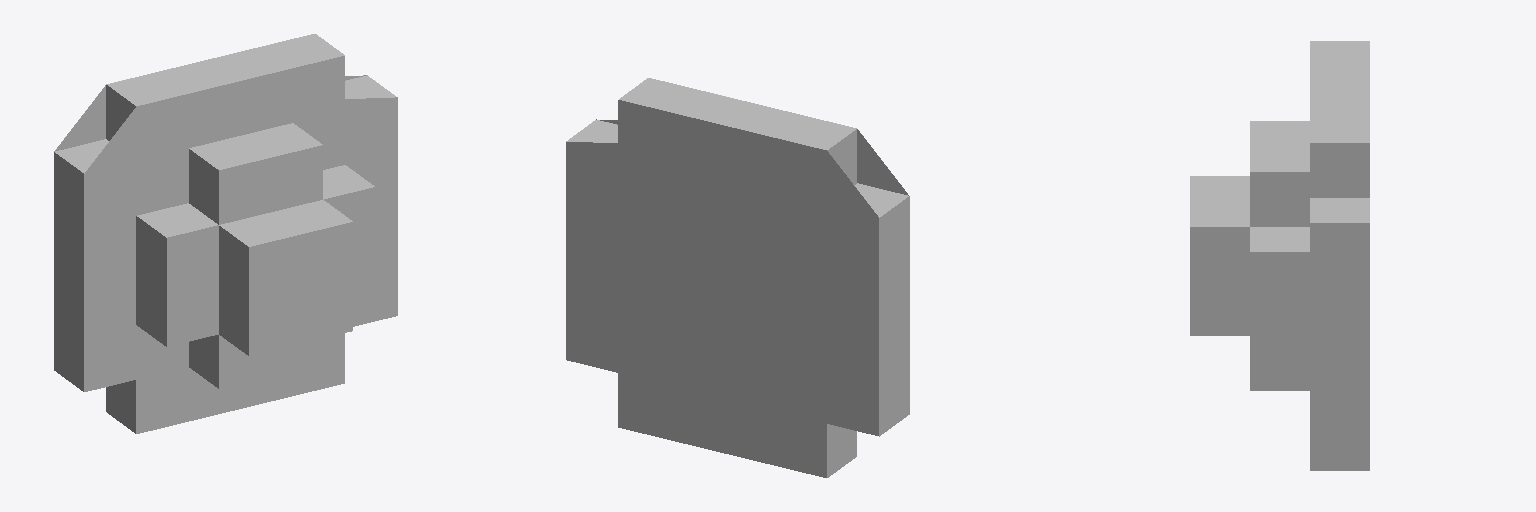
Rendered from Shield_2.obj.
The picture shows the model from 3 angles: view 1: azimuth 30°, elevation 25°; view 2: azimuth 150°, elevation 25°; view 3: azimuth 270°, elevation 25°; orthographic projection.
Parts seen in each view (by area): view 1: Shield_2_Shield_2.001; view 2: Shield_2_Shield_2.001; view 3: Shield_2_Shield_2.001.
Part boxes in pixels (bbox=[...]): Shield_2_Shield_2.001: bbox=[54, 34, 397, 433]; Shield_2_Shield_2.001: bbox=[566, 78, 909, 477]; Shield_2_Shield_2.001: bbox=[1190, 41, 1369, 470].
Bounding box in the file's own units: 0.6 × 0.6 × 0.3.